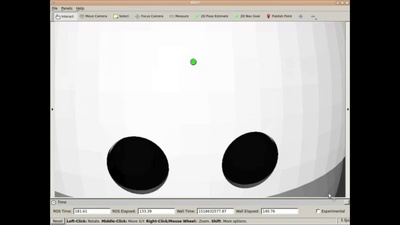mira_robot: (54, 21, 345, 197)
